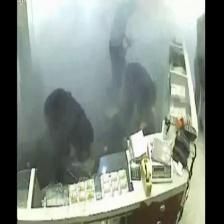smoke: (38, 4, 182, 142)
